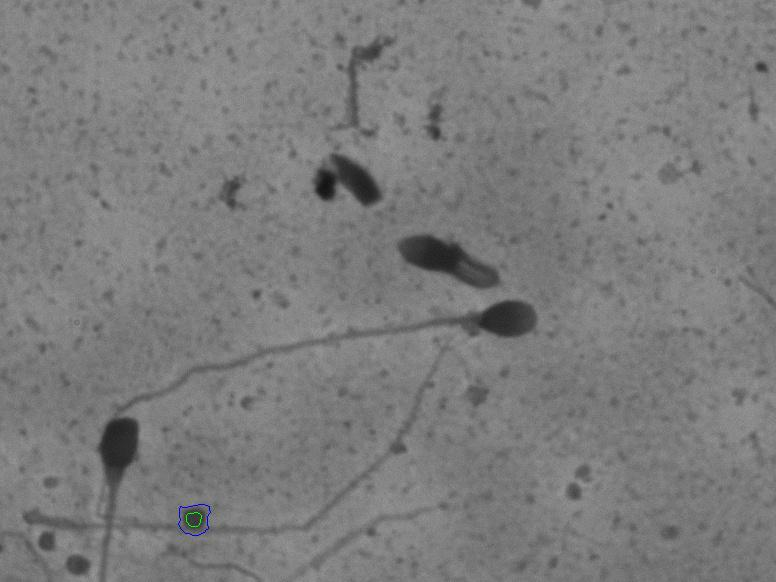Abnormal: (379, 208, 528, 294)
Normal: (99, 299, 544, 419)
